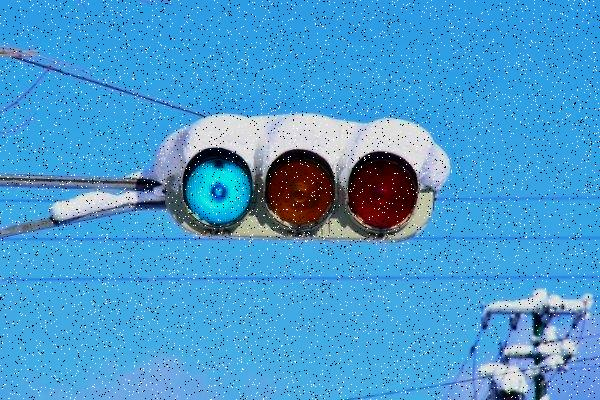cars: (173, 123, 429, 240)
